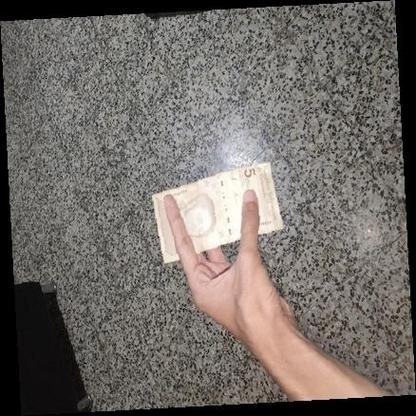five-front-vef: (151, 162, 284, 264)
